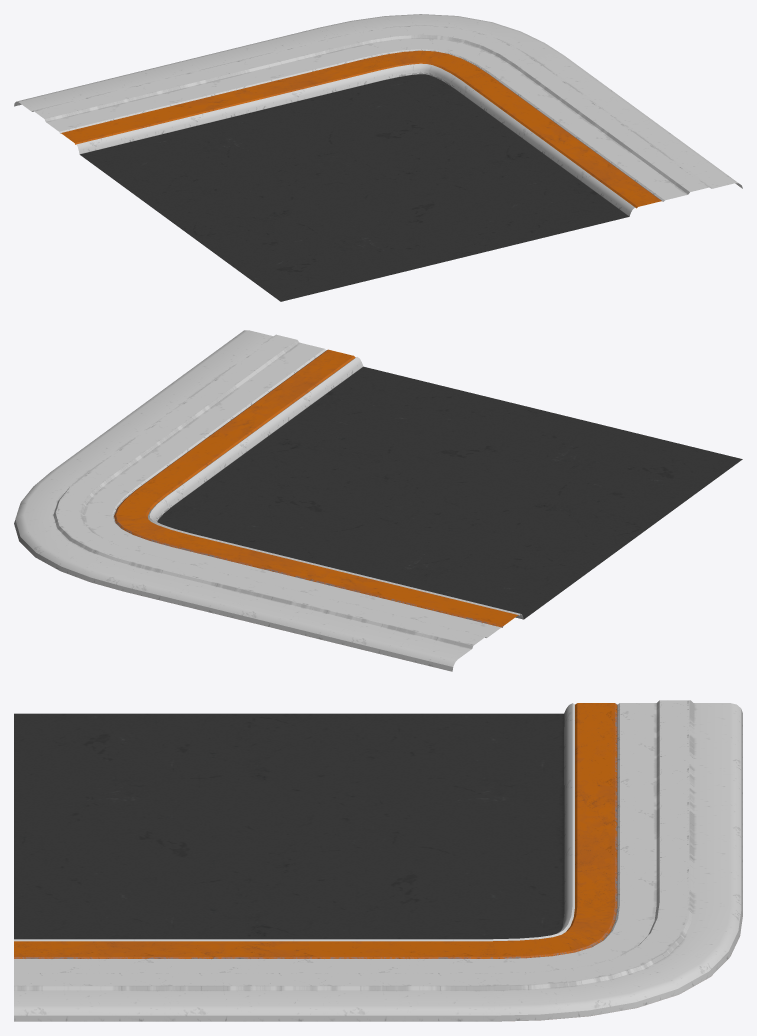
The model's file is Floor_3Corner.fbx.
3 views of the same model, one above another, from view 1: azimuth 30°, elevation 25°; view 2: azimuth 150°, elevation 25°; view 3: azimuth 270°, elevation 25° (orthographic). The views are drawn at different scales.
Visible parts, largest first — view 1: Floor_3Corner; view 2: Floor_3Corner; view 3: Floor_3Corner.
Boxes of the visible parts, x1,y1,x2,y2 form: Floor_3Corner: (14,14,742,301); Floor_3Corner: (14,330,742,671); Floor_3Corner: (14,700,742,1021).
Bounding box in the file's own units: 6.47 × 0.1315 × 6.47.
